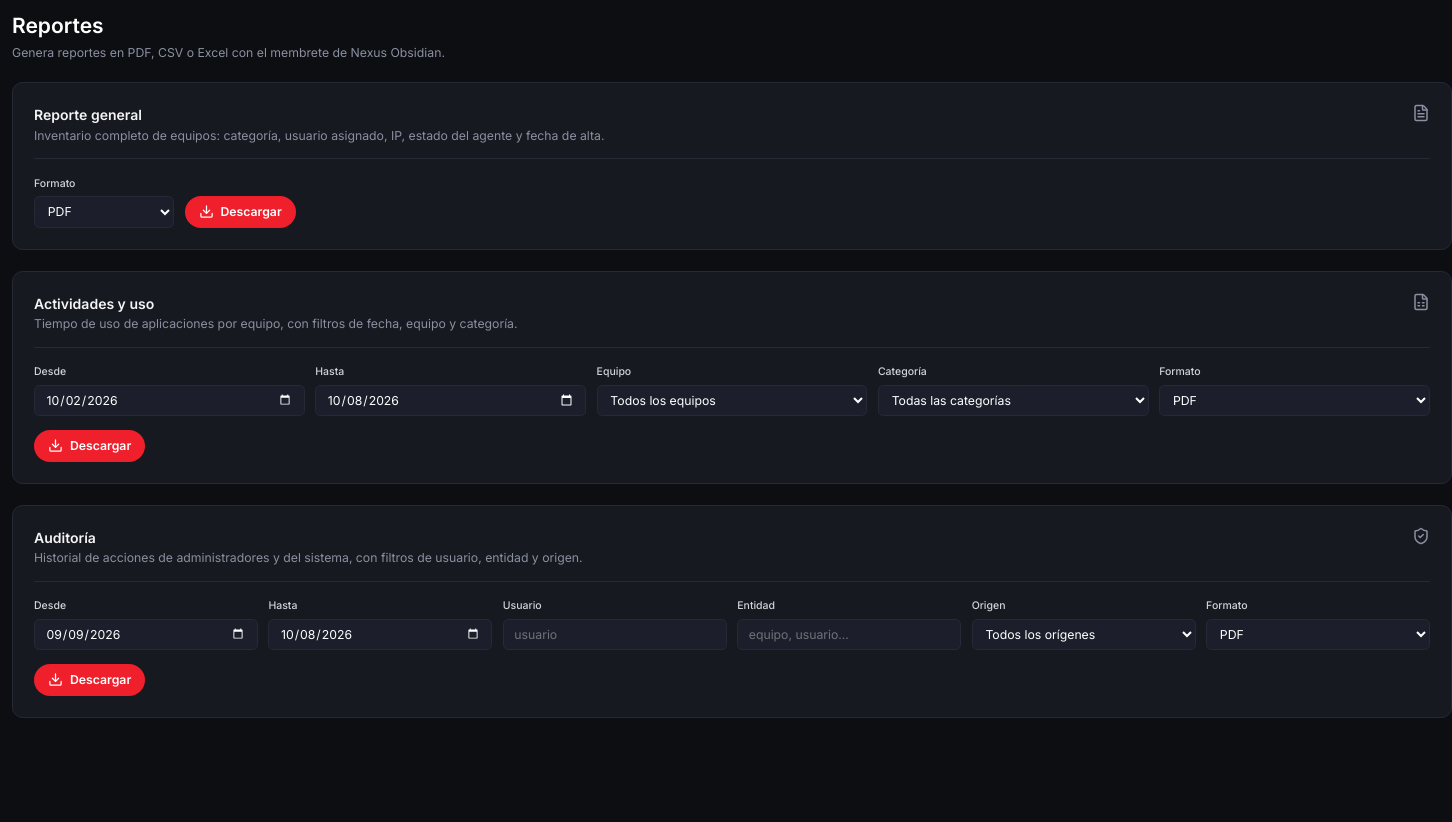
Test: muestra el error devuelto por el servidor al fallar la descarga
Click the button "Descargar" below "Reporte general" at (240, 212), box [184,196,296,228]
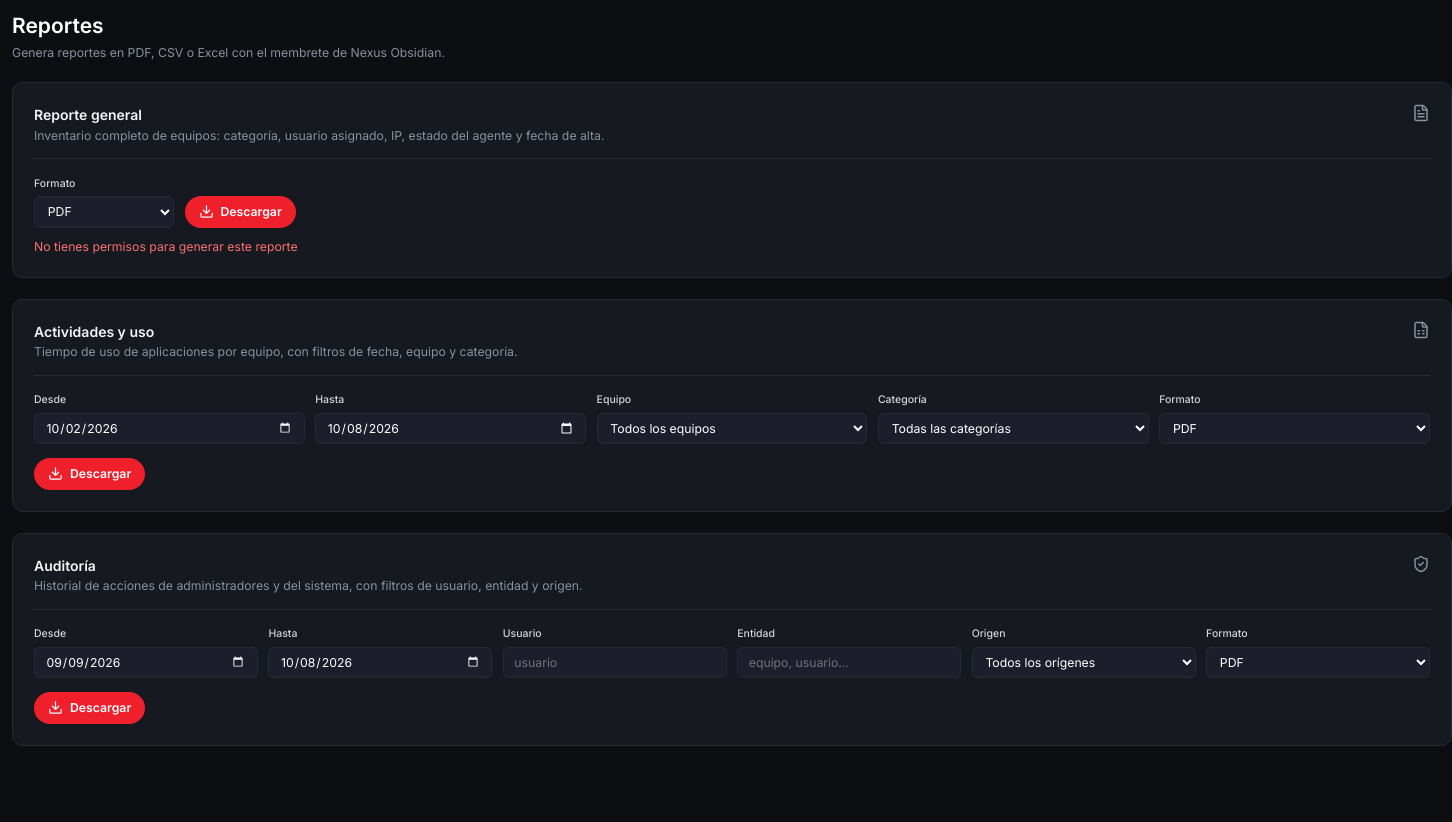
Check: the text "No tienes permisos para generar este reporte" is shown, box [34,239,298,254]
